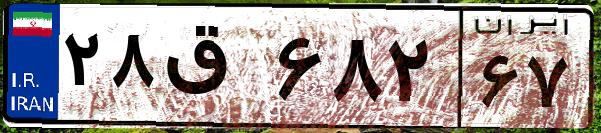2: (385, 28, 445, 110), (57, 26, 110, 100)
6: (270, 28, 330, 110), (475, 38, 525, 113)
7: (525, 38, 570, 115)
8: (330, 28, 385, 110), (110, 28, 158, 98)
ق: (158, 20, 270, 120)
